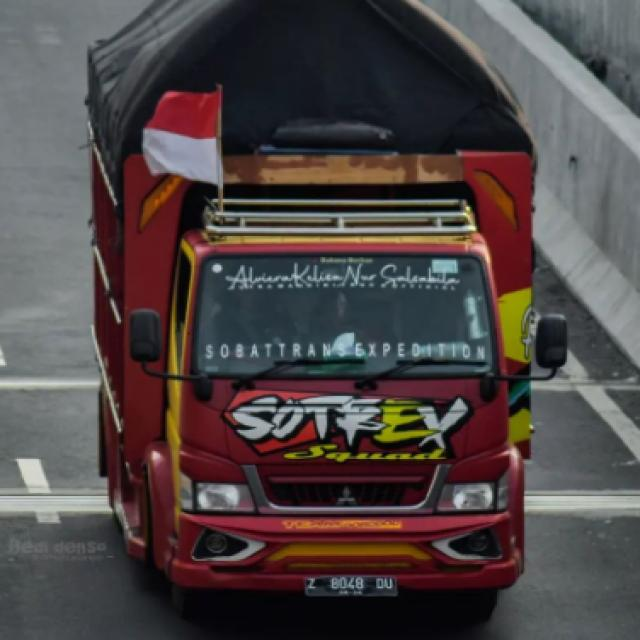truck: (65, 0, 582, 626)
